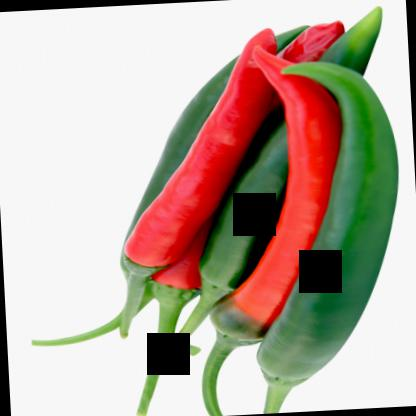chilli: (13, 25, 325, 348), (142, 6, 402, 356), (182, 40, 362, 416), (240, 55, 414, 413), (100, 27, 294, 338)
